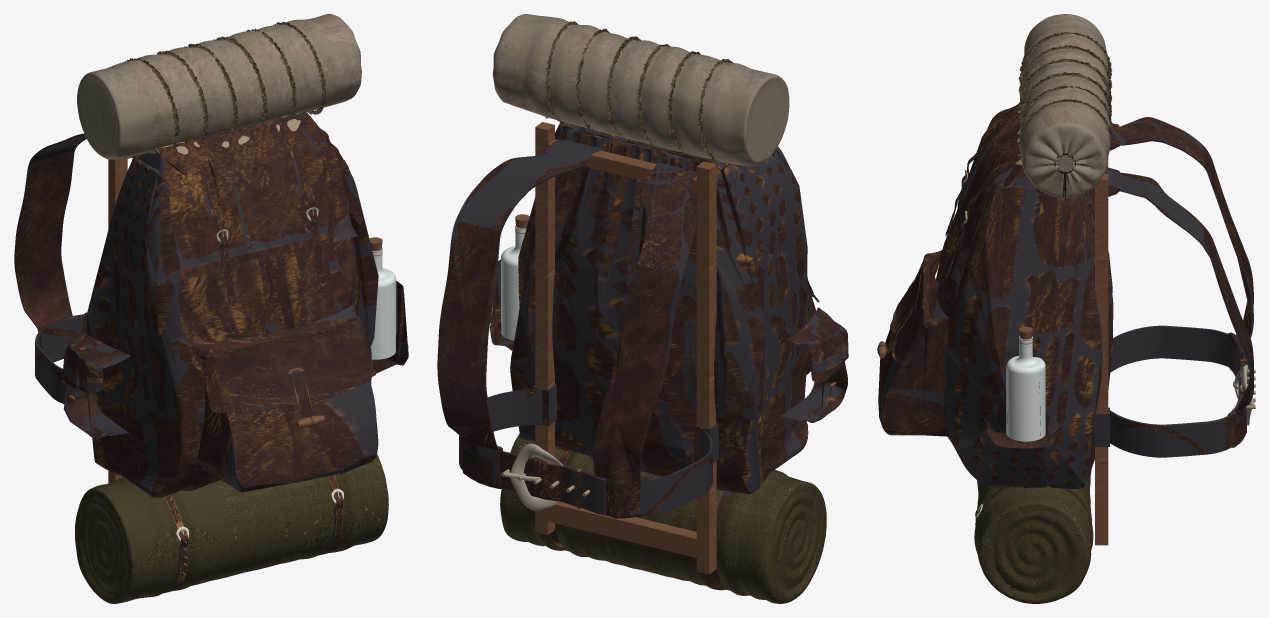
3 renders of one model, left to right at view 1: azimuth 30°, elevation 25°; view 2: azimuth 150°, elevation 25°; view 3: azimuth 270°, elevation 25°, orthographic. The views are drawn at different scales.
Parts seen in each view (by area): view 1: Rucksack, Blanket, Tent_bag, Shoulder_straps, Rope, Top_strapa, Bottle, Bottom_straps, Belt, Frame; view 2: Rucksack, Shoulder_straps, Tent_bag, Blanket, Frame, Belt, Rope, Bottle, Belt_buckle, Bottom_straps; view 3: Rucksack, Tent_bag, Blanket, Shoulder_straps, Belt, Frame, Bottle, Rope, Top_strapa.
Part boxes in pixels (x1=…): Rucksack: x1=62, y1=111, x2=408, y2=497; Blanket: x1=75, y1=454, x2=388, y2=603; Tent_bag: x1=77, y1=14, x2=361, y2=159; Shoulder_straps: x1=14, y1=133, x2=134, y2=362; Rope: x1=125, y1=22, x2=326, y2=145; Top_strapa: x1=199, y1=138, x2=326, y2=308; Bottle: x1=370, y1=248, x2=396, y2=359; Bottom_straps: x1=163, y1=475, x2=343, y2=593; Belt: x1=35, y1=314, x2=86, y2=403; Frame: x1=108, y1=156, x2=132, y2=483; Rucksack: x1=489, y1=122, x2=848, y2=494; Shoulder_straps: x1=437, y1=139, x2=696, y2=518; Tent_bag: x1=492, y1=14, x2=789, y2=166; Blanket: x1=500, y1=434, x2=826, y2=603; Frame: x1=535, y1=122, x2=716, y2=574; Belt: x1=459, y1=384, x2=718, y2=516; Rope: x1=545, y1=21, x2=733, y2=163; Bottle: x1=501, y1=225, x2=525, y2=340; Belt_buckle: x1=504, y1=443, x2=565, y2=510; Bottom_straps: x1=550, y1=451, x2=732, y2=590; Rucksack: x1=878, y1=104, x2=1113, y2=488; Tent_bag: x1=1020, y1=14, x2=1110, y2=197; Blanket: x1=974, y1=470, x2=1093, y2=603; Shoulder_straps: x1=1093, y1=117, x2=1253, y2=447; Belt: x1=1093, y1=325, x2=1249, y2=457; Frame: x1=1095, y1=156, x2=1108, y2=545; Bottle: x1=1006, y1=336, x2=1045, y2=441; Rope: x1=1018, y1=31, x2=1112, y2=149; Top_strapa: x1=945, y1=123, x2=1009, y2=279.
Bounding box in the file's own units: 0.5124 × 0.78 × 0.5525.
25 materials, 20 textured.
